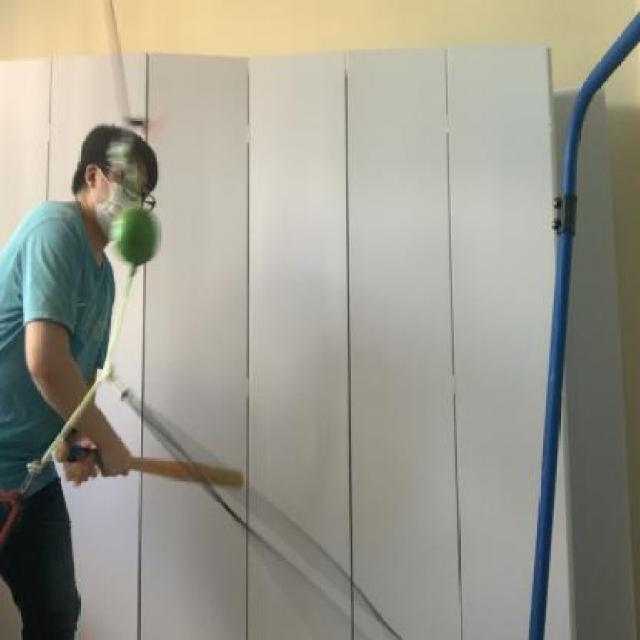baseball: (106, 196, 162, 275)
